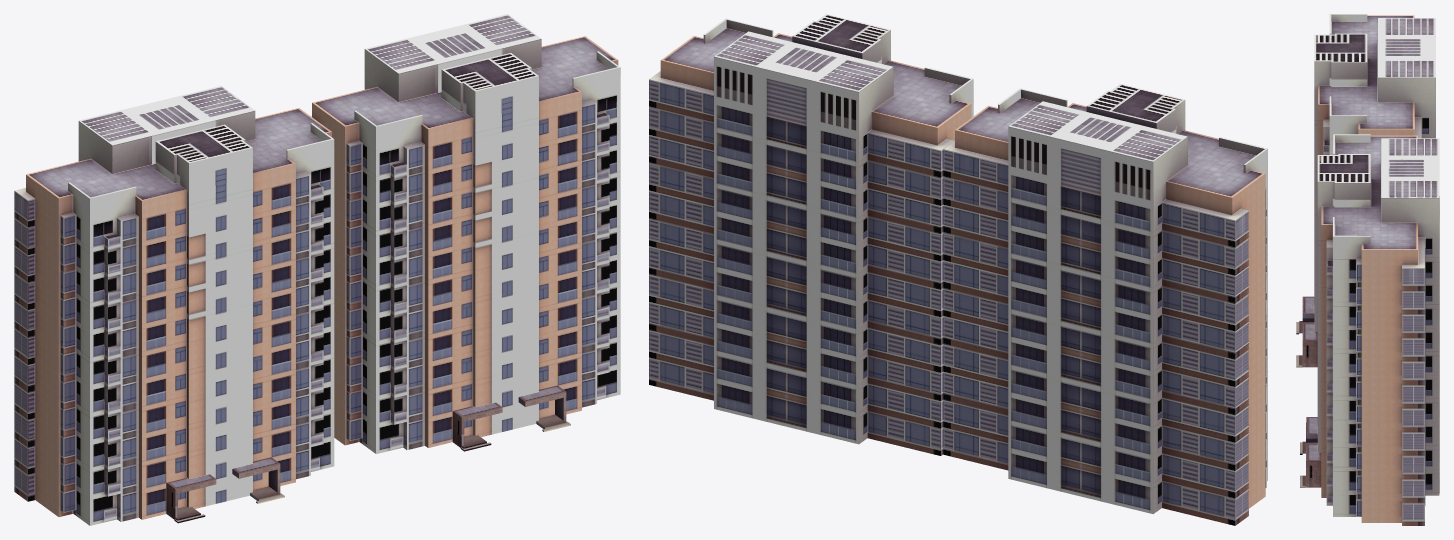
Rendered from 07_jianzhu_init.FBX.
The picture shows the model from 3 angles, left to right: view 1: azimuth 30°, elevation 25°; view 2: azimuth 150°, elevation 25°; view 3: azimuth 270°, elevation 25°; orthographic projection. The views are drawn at different scales.
Parts seen in each view (by area): view 1: 07_jianzhu_init; view 2: 07_jianzhu_init; view 3: 07_jianzhu_init.
Part boxes in pixels (x1=…): 07_jianzhu_init: x1=14, y1=14, x2=620, y2=525; 07_jianzhu_init: x1=649, y1=14, x2=1267, y2=525; 07_jianzhu_init: x1=1296, y1=14, x2=1439, y2=525.
Bounding box in the file's own units: 5156 × 2972 × 1295.
